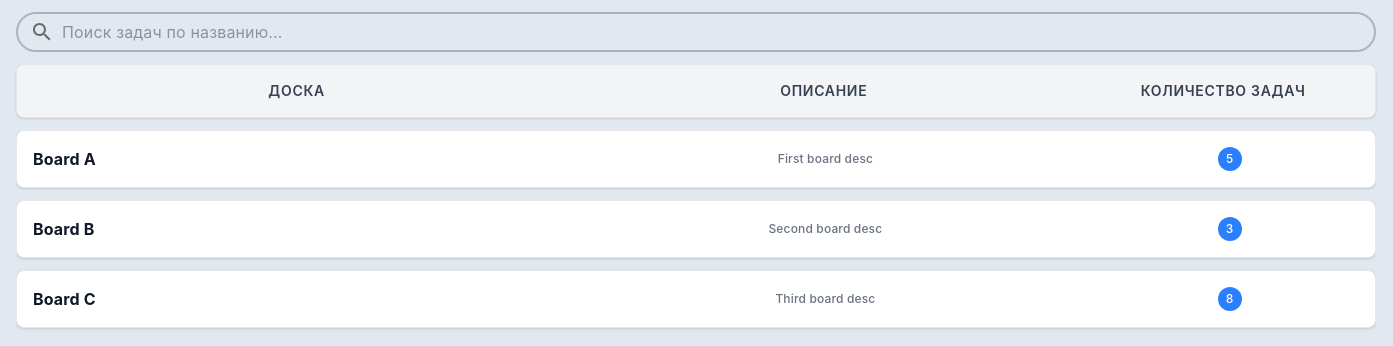
Scenario: BoardsList Component › should filter boards by name when searching
The image size is (1393, 346).
Type "Board A" into the field with placeholder "Поиск задач по названию..." at (719, 32), box [62, 12, 1376, 52]
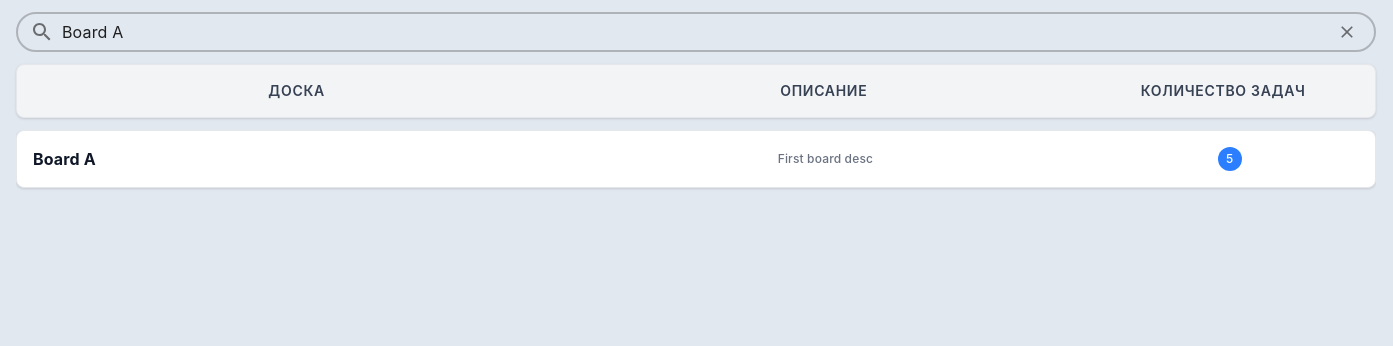
Expected: the heading "Board A" is shown, [33, 149, 96, 169]
Now the link "Board B" is gone
Now the link "Board C" is gone
